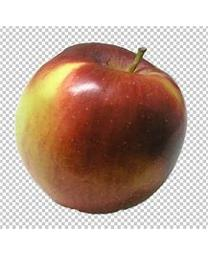apple: (14, 42, 187, 214)
